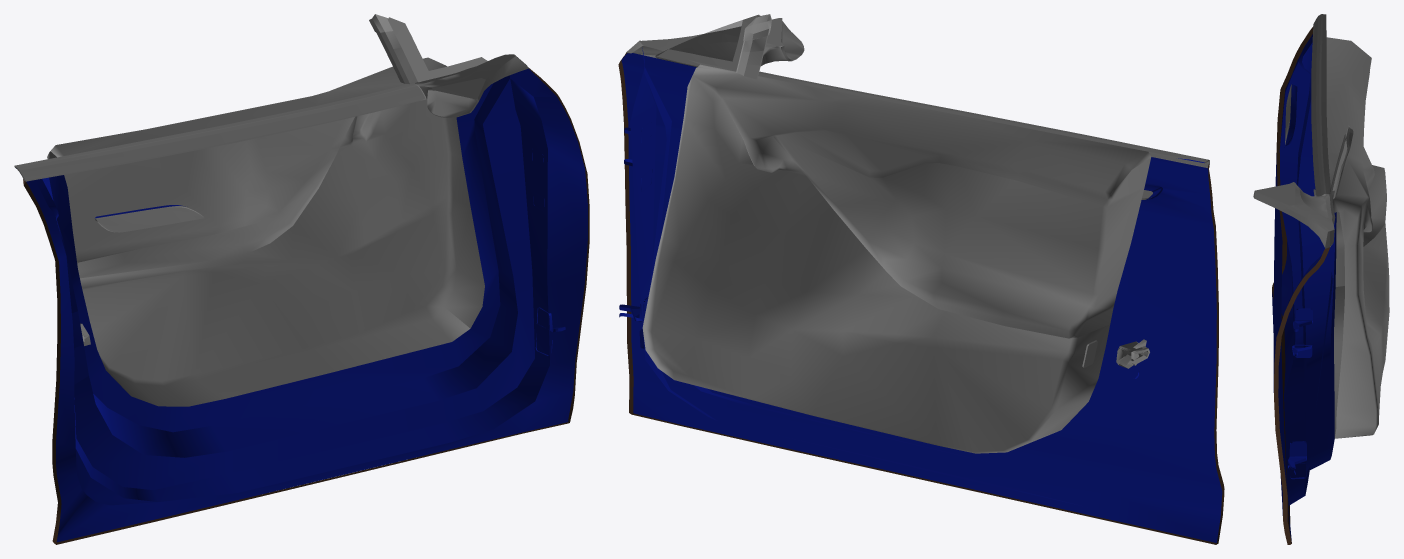
Rendered from Door_RF.obj.
The picture shows the model from 3 angles, left to right: view 1: azimuth 30°, elevation 25°; view 2: azimuth 150°, elevation 25°; view 3: azimuth 270°, elevation 25°; orthographic projection. The views are drawn at different scales.
Parts seen in each view (by area): view 1: Door_RF; view 2: Door_RF; view 3: Door_RF.
Boxes of the visible parts, box(x1,y1,x2,y2) form: Door_RF: box(14, 14, 589, 544); Door_RF: box(618, 14, 1224, 544); Door_RF: box(1253, 14, 1389, 544).
Size of the model in its own units: 1.14 by 0.8433 by 0.2934.
